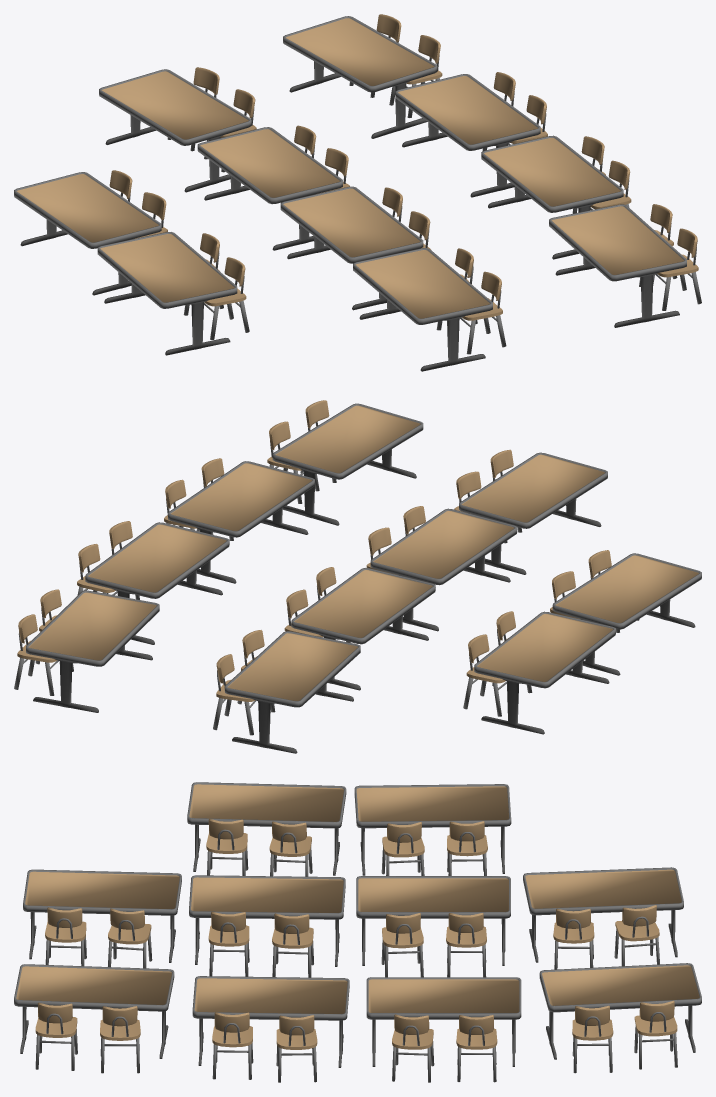
Rendered from d-roomcomp-d-auditorium-in.glb.
3 renders of one model, top to bottom at view 1: azimuth 30°, elevation 25°; view 2: azimuth 150°, elevation 25°; view 3: azimuth 270°, elevation 25°, orthographic. The views are drawn at different scales.
Parts seen in each view (by area): view 1: officeDesk.010, officeDesk.013, officeDesk.009, officeDesk.006, officeDesk.011, officeDesk.003, officeDesk.007, officeDesk.012, officeDesk.004, officeDesk.008, Chair.009, Chair.023 (+8 smaller); view 2: officeDesk.012, officeDesk.006, officeDesk.011, officeDesk.010, officeDesk.009, officeDesk.004, officeDesk.013, officeDesk.008, officeDesk.007, officeDesk.003, Chair.020, Chair.006 (+7 smaller); view 3: officeDesk.006, officeDesk.010, officeDesk.011, officeDesk.009, officeDesk.013, officeDesk.003, officeDesk.012, officeDesk.008, officeDesk.004, officeDesk.007, Chair.006, Chair.009 (+18 smaller).
Part boxes in pixels (left/top/right/bottom): officeDesk.010: left=283, top=16, right=437, bottom=138; officeDesk.013: left=97, top=232, right=237, bottom=355; officeDesk.009: left=353, top=248, right=492, bottom=371; officeDesk.006: left=549, top=204, right=686, bottom=327; officeDesk.011: left=99, top=69, right=251, bottom=192; officeDesk.003: left=395, top=74, right=540, bottom=197; officeDesk.007: left=197, top=127, right=342, bottom=250; officeDesk.012: left=14, top=172, right=161, bottom=295; officeDesk.004: left=481, top=135, right=623, bottom=259; officeDesk.008: left=280, top=186, right=423, bottom=310; Chair.009: left=653, top=228, right=701, bottom=310; Chair.023: left=204, top=257, right=249, bottom=339; officeDesk.012: left=474, top=611, right=615, bottom=734; officeDesk.006: left=272, top=403, right=423, bottom=525; officeDesk.011: left=224, top=631, right=360, bottom=753; officeDesk.010: left=26, top=590, right=159, bottom=712; officeDesk.009: left=459, top=452, right=607, bottom=574; officeDesk.004: left=168, top=461, right=314, bottom=583; officeDesk.013: left=552, top=553, right=701, bottom=675; officeDesk.008: left=370, top=508, right=517, bottom=631; officeDesk.007: left=291, top=568, right=435, bottom=690; officeDesk.003: left=85, top=522, right=229, bottom=644; Chair.020: left=463, top=634, right=506, bottom=716; Chair.006: left=14, top=614, right=58, bottom=695; officeDesk.006: left=14, top=964, right=174, bottom=1058; officeDesk.010: left=539, top=963, right=701, bottom=1059; officeDesk.011: left=523, top=867, right=683, bottom=962; officeDesk.009: left=23, top=869, right=181, bottom=962; officeDesk.013: left=187, top=782, right=346, bottom=875; officeDesk.003: left=366, top=977, right=521, bottom=1066; officeDesk.012: left=354, top=784, right=511, bottom=875; officeDesk.008: left=189, top=875, right=345, bottom=966; officeDesk.004: left=192, top=976, right=349, bottom=1067; officeDesk.007: left=356, top=876, right=510, bottom=965; Chair.006: left=634, top=1000, right=677, bottom=1069; Chair.009: left=35, top=1002, right=77, bottom=1070.
Size of the model in its own units: 8.58 by 1.07 by 10.24.
1 material, 1 textured.
